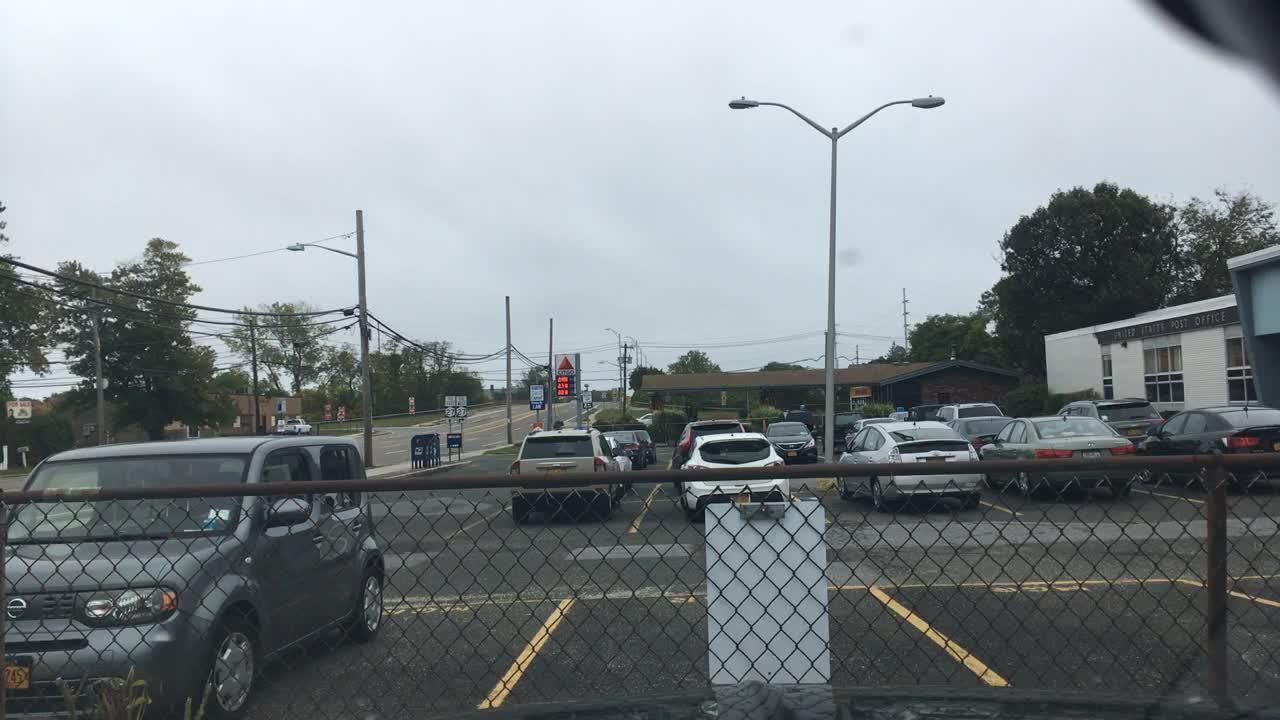Nissan: (3, 592, 40, 626)
